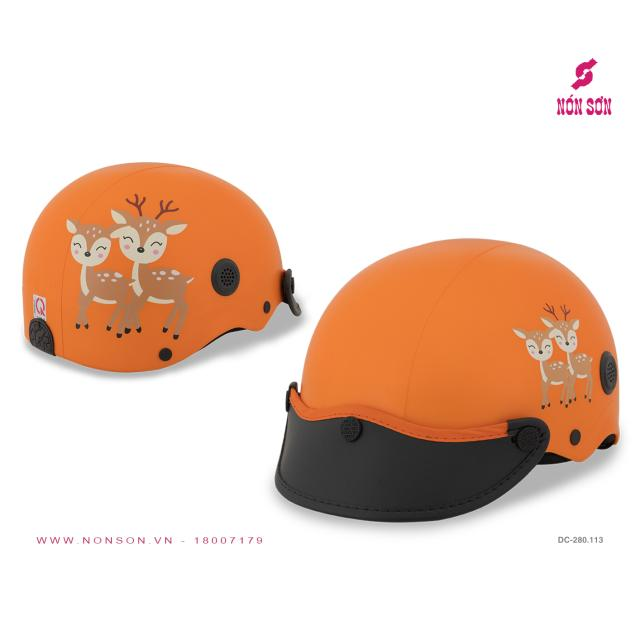Helmet: (266, 213, 624, 534)
